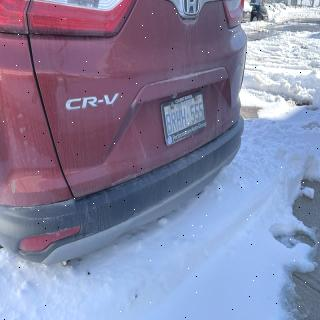license: (161, 90, 209, 148)
